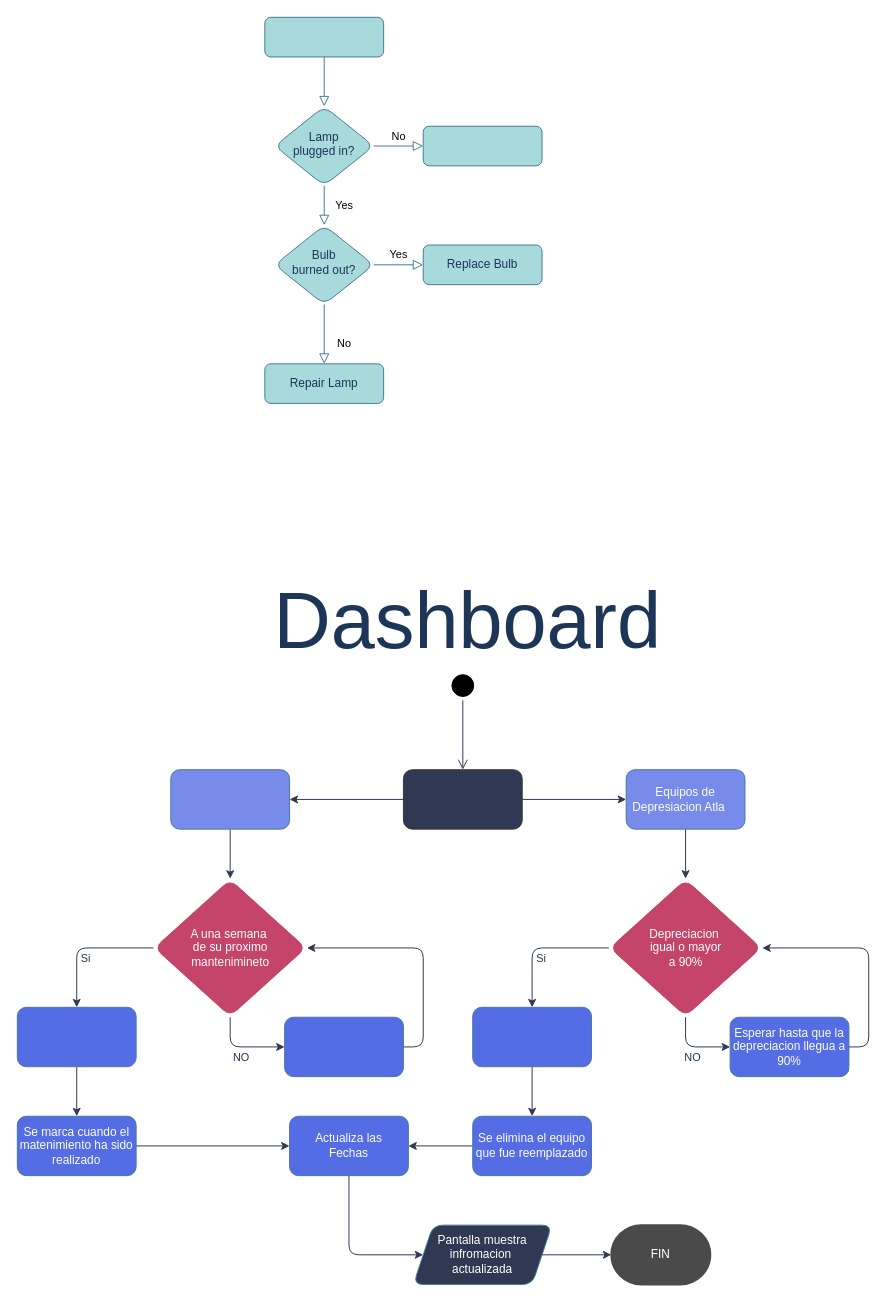
This 894x1303 diagram has some shape labels left out. Each missing label, with the centre of its shape:
"Lamp doesn't work" goes at [324,36].
"Mantenimientos Proximos" goes at [230,799].
"Notifica, para gestionar el reemplazo" goes at [532,1036].
"Pantalla Informacion General de los Equipos" goes at [462,799].
"Plug in lamp" goes at [482,145].
"Revisar la ultima fecha de mantenimiento" goes at [343,1046].
"Se realiza el mantenimiento." goes at [76,1036].
